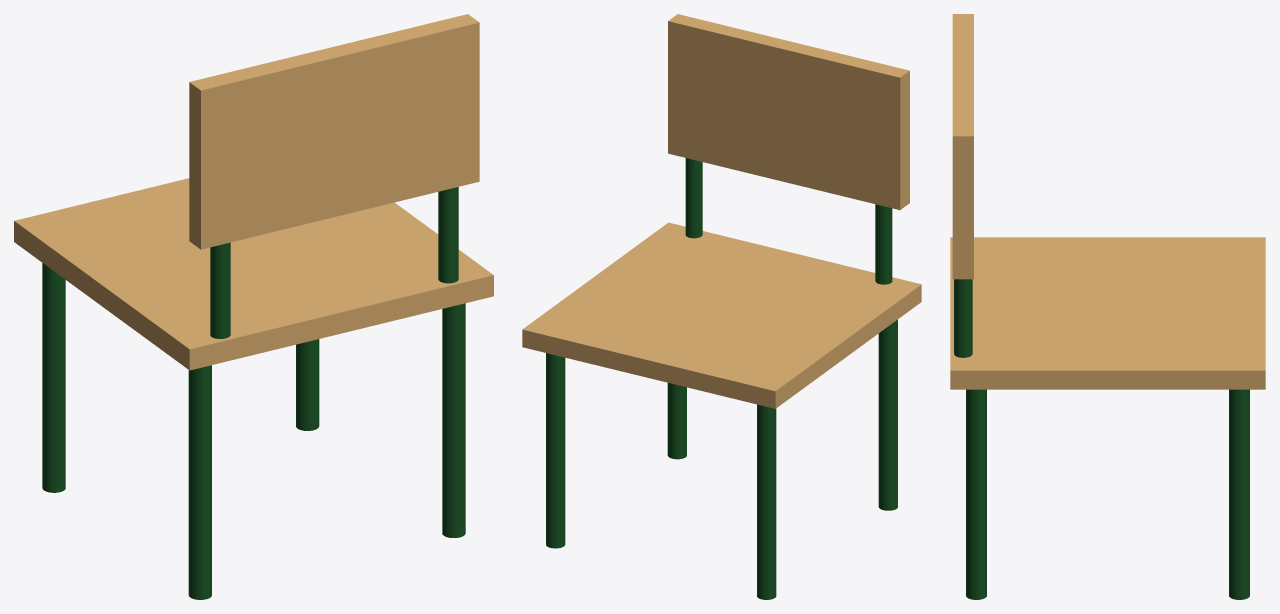
The model's file is szkolne_krzeslo.obj.
3 renders of one model, left to right at view 1: azimuth 30°, elevation 25°; view 2: azimuth 150°, elevation 25°; view 3: azimuth 270°, elevation 25°, orthographic. The views are drawn at different scales.
Parts seen in each view (by area): view 1: Siedzisko; view 2: Siedzisko; view 3: Siedzisko.
Boxes of the visible parts, <box> form: Siedzisko: <box>14,14,493,599</box>; Siedzisko: <box>522,14,921,599</box>; Siedzisko: <box>950,14,1265,599</box>.
Bounding box in the file's own units: 1.2 × 1.95 × 1.2.
